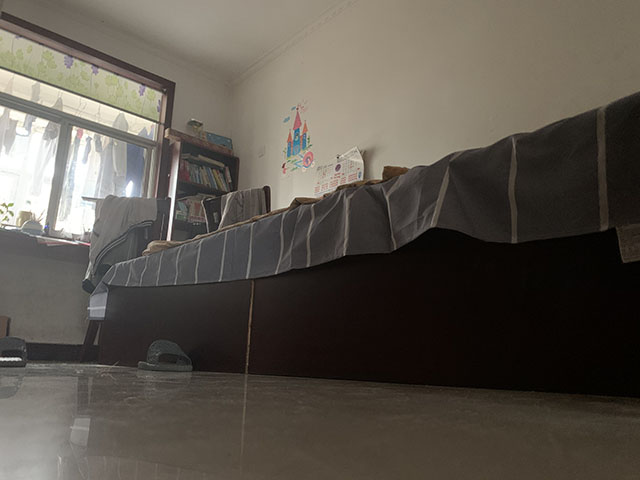bed: (85, 90, 640, 397)
slippers: (136, 339, 194, 373), (1, 336, 29, 368)
